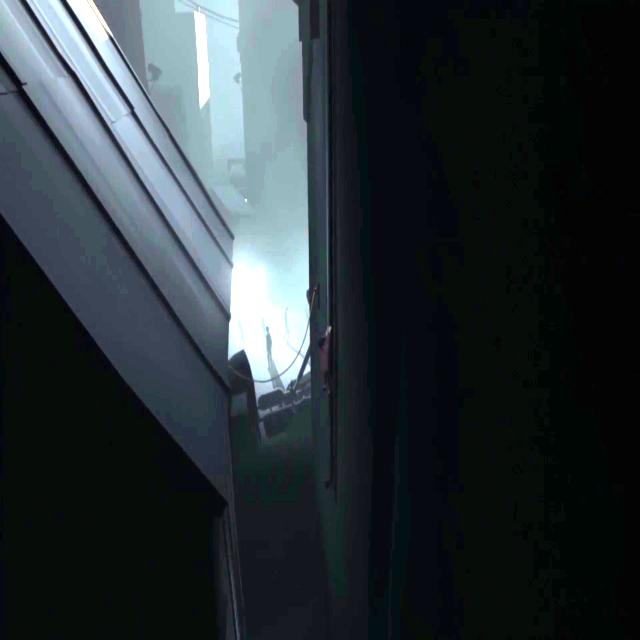boy: (321, 318, 333, 394)
zombie: (283, 306, 290, 346), (266, 326, 272, 372), (238, 313, 245, 350), (261, 313, 266, 351)
